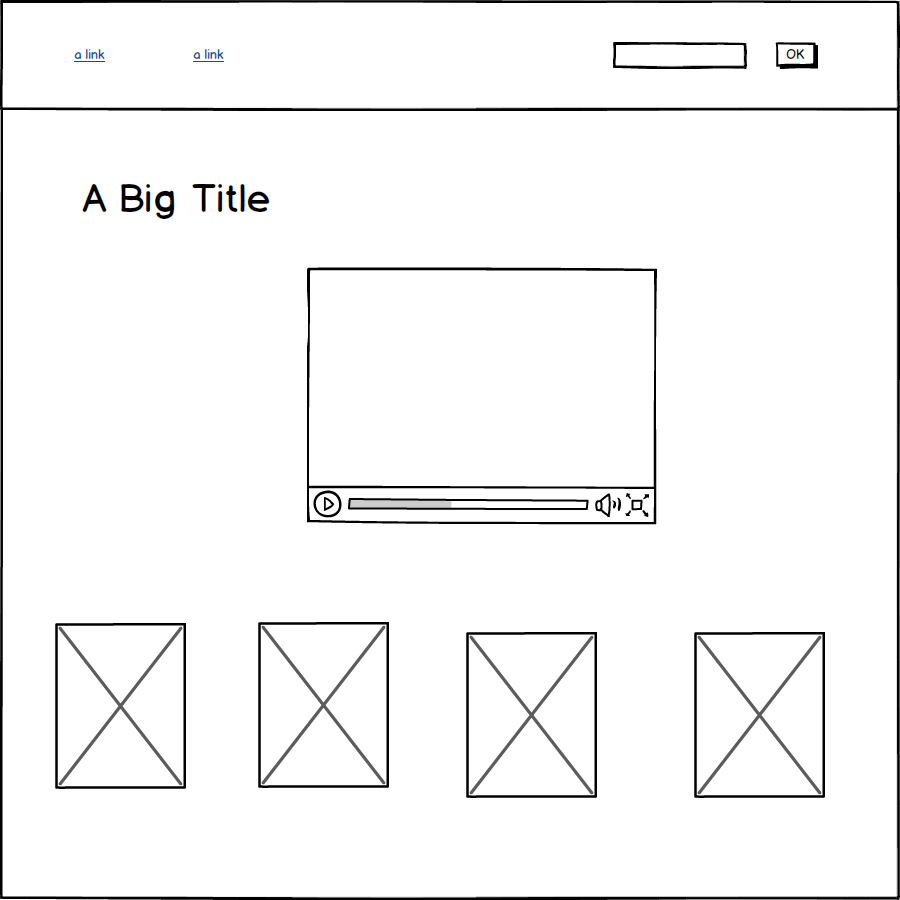button: (771, 34, 822, 74)
h1: (67, 167, 285, 232)
image: (253, 615, 396, 792), (464, 626, 605, 803), (689, 629, 831, 803), (53, 619, 190, 792)
input: (604, 34, 756, 71)
navlink: (182, 38, 238, 74), (63, 37, 124, 70)
video: (300, 260, 668, 530)
